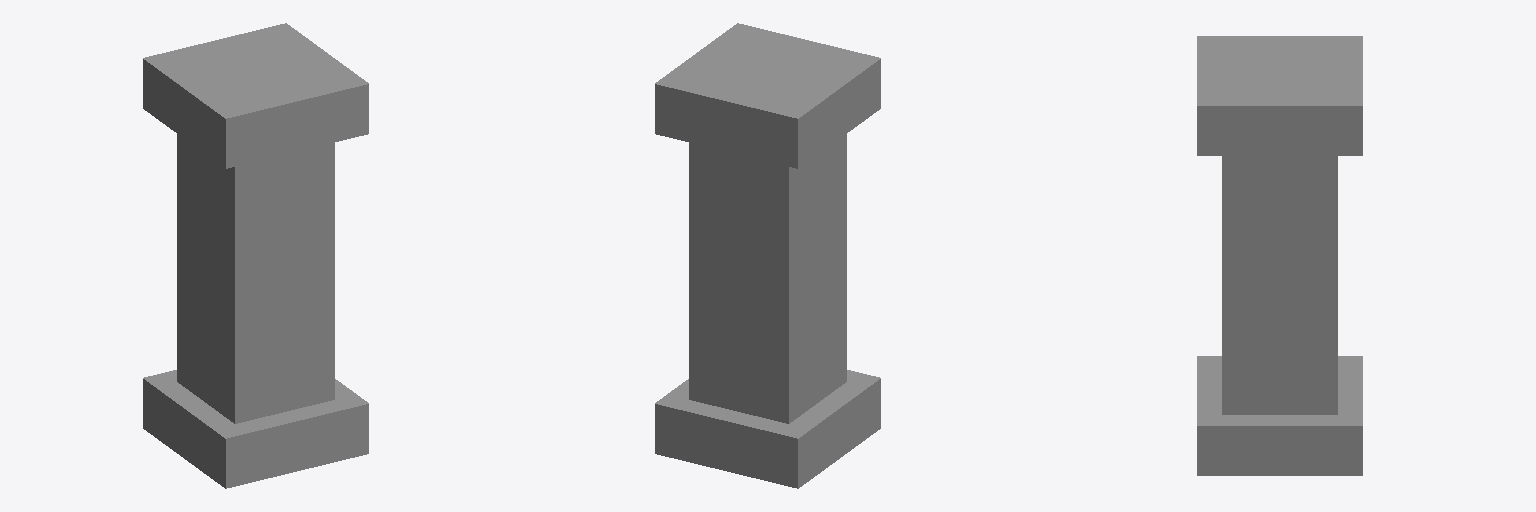
File: Pillar.obj
3 renders of one model, left to right at view 1: azimuth 30°, elevation 25°; view 2: azimuth 150°, elevation 25°; view 3: azimuth 270°, elevation 25°, orthographic.
Parts seen in each view (by area): view 1: Cube; view 2: Cube; view 3: Cube.
Part boxes in pixels (x1,y1,x2,y2): Cube: (143,23,368,488); Cube: (655,23,880,488); Cube: (1197,36,1362,475).
Size of the model in its own units: 3 by 7.37 by 3.